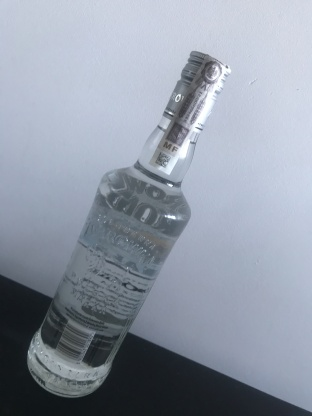nakretka: (161, 47, 232, 137)
